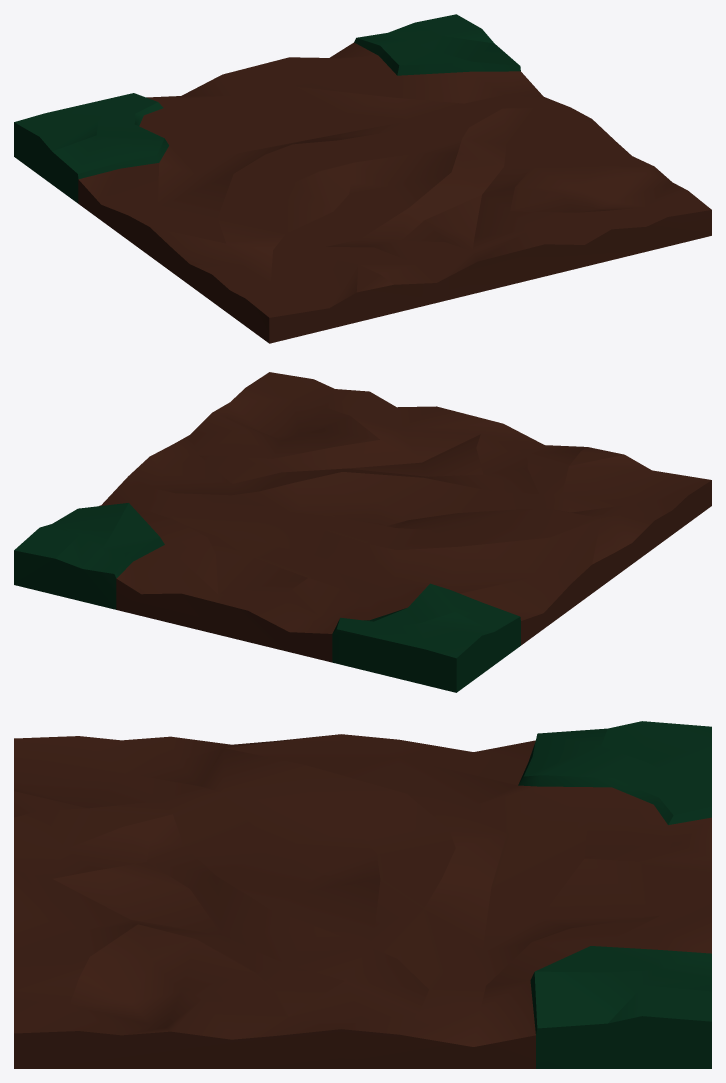
Rendered from Ground_Path_Entrance_U.fbx.
3 views of the same model, one above another, from view 1: azimuth 30°, elevation 25°; view 2: azimuth 150°, elevation 25°; view 3: azimuth 270°, elevation 25° (orthographic). The views are drawn at different scales.
Parts seen in each view (by area): view 1: Ground_Path_Entrance_U; view 2: Ground_Path_Entrance_U; view 3: Ground_Path_Entrance_U.
Part boxes in pixels (bbox=[...]): Ground_Path_Entrance_U: bbox=[14, 14, 711, 343]; Ground_Path_Entrance_U: bbox=[14, 372, 711, 692]; Ground_Path_Entrance_U: bbox=[14, 721, 711, 1068].
Bounding box in the file's own units: 147 × 14.83 × 147.
